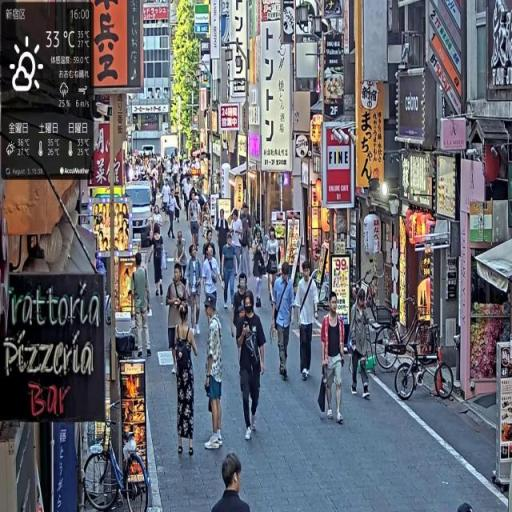person: (237, 291, 268, 442), (172, 304, 201, 459), (320, 294, 348, 426), (204, 296, 225, 451), (295, 258, 320, 383), (272, 259, 296, 384), (349, 290, 375, 401), (166, 264, 188, 377), (212, 452, 252, 512), (131, 252, 153, 360), (201, 244, 223, 323), (186, 242, 203, 333), (265, 227, 283, 312), (221, 233, 239, 313), (151, 225, 168, 299), (188, 193, 203, 252), (217, 207, 230, 274), (166, 188, 179, 241)
